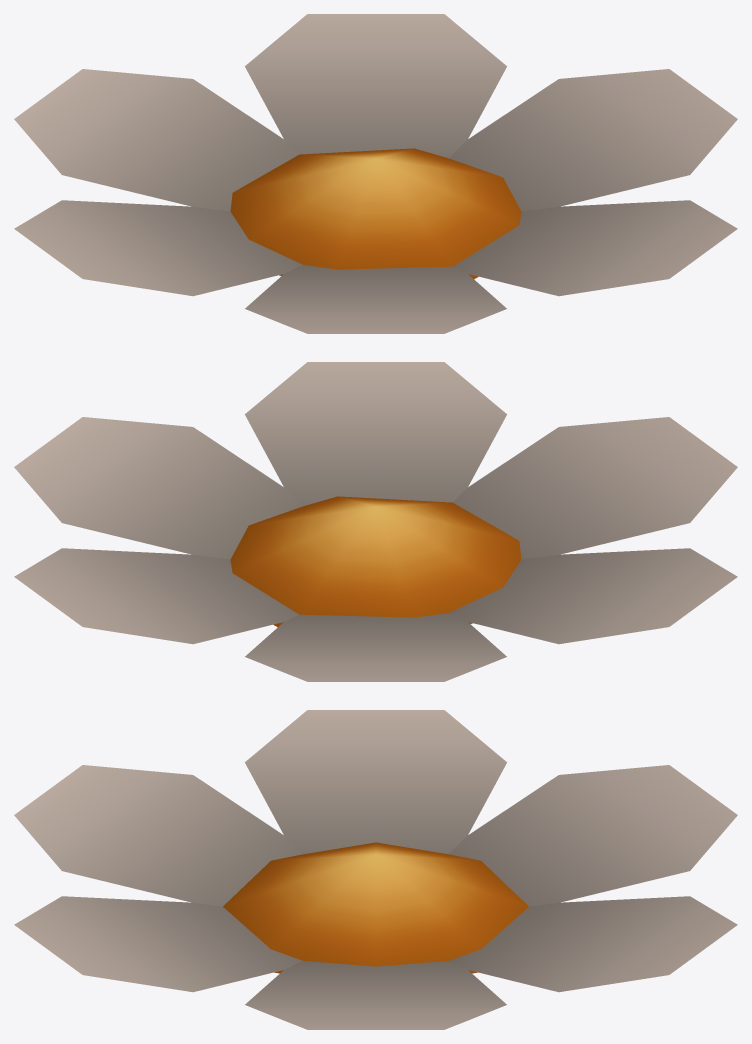
File: Flower_1A.fbx
3 views of the same model, one above another, from view 1: azimuth 30°, elevation 25°; view 2: azimuth 150°, elevation 25°; view 3: azimuth 270°, elevation 25° (orthographic).
Parts seen in each view (by area): view 1: Flower_1A; view 2: Flower_1A; view 3: Flower_1A.
Part boxes in pixels (bbox=[...]): Flower_1A: bbox=[14, 14, 737, 333]; Flower_1A: bbox=[14, 362, 737, 681]; Flower_1A: bbox=[14, 710, 737, 1029].
Size of the model in its own units: 54.85 by 5.21 by 52.48.
